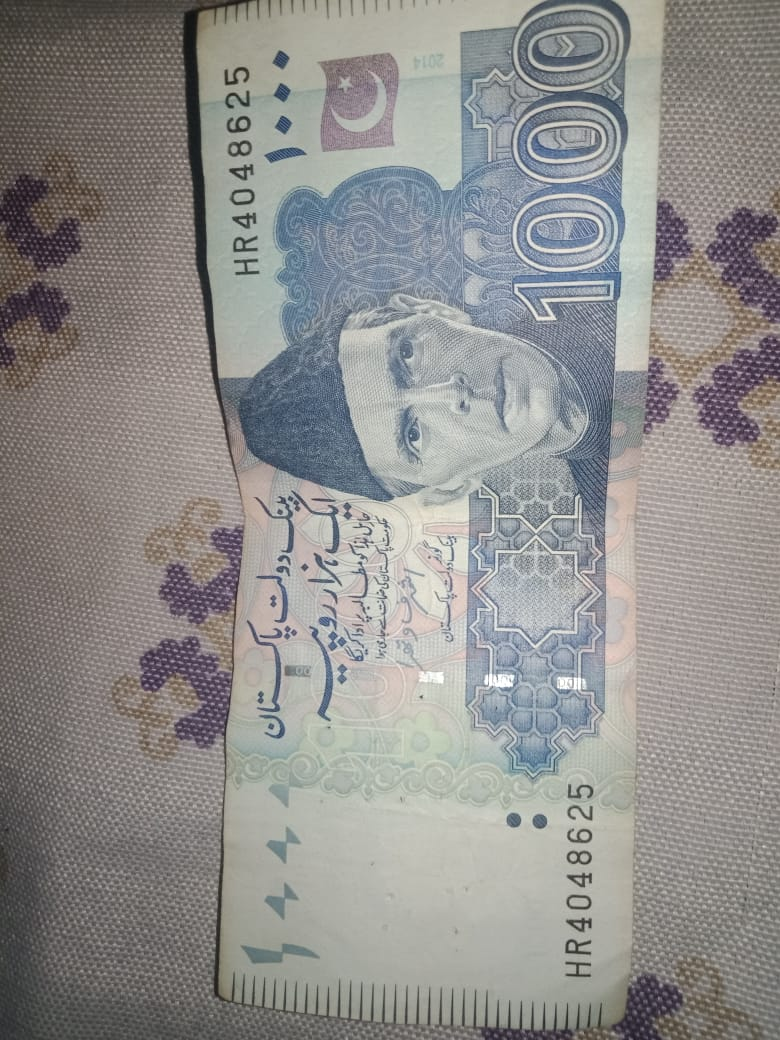1000 rupee: (120, 18, 729, 1031)
